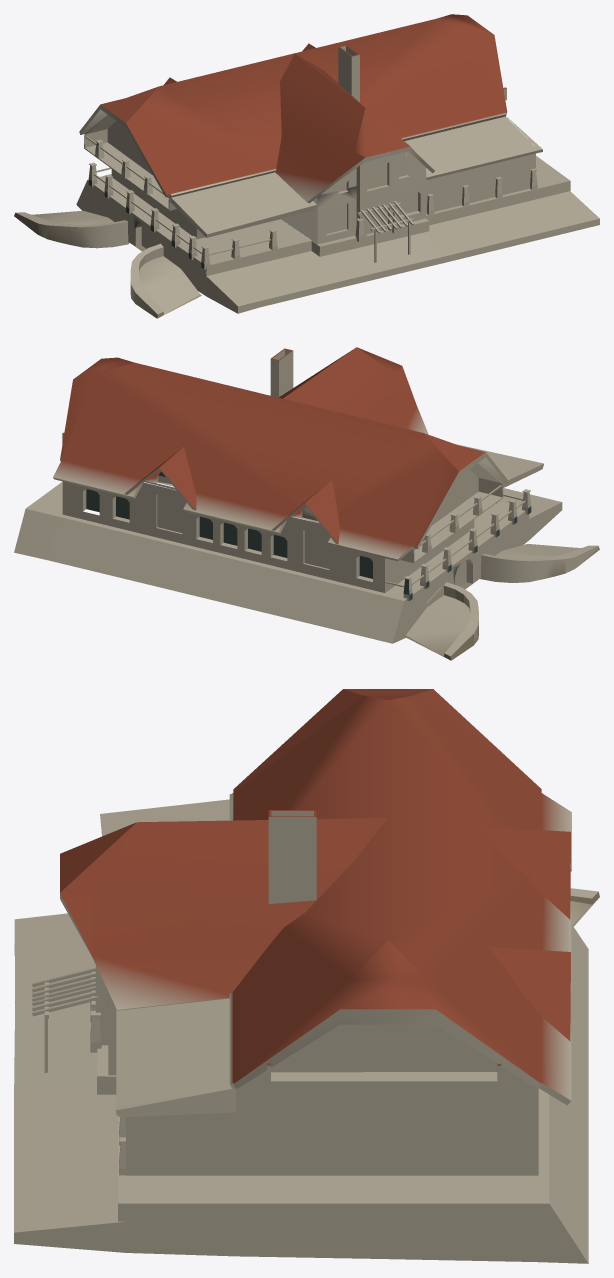
3 renders of one model, top to bottom at view 1: azimuth 30°, elevation 25°; view 2: azimuth 150°, elevation 25°; view 3: azimuth 270°, elevation 25°, orthographic. The views are drawn at different scales.
Visible parts, largest first — view 1: pCube17:PIV; view 2: pCube17:PIV; view 3: pCube17:PIV.
Part boxes in pixels (left/top/right/bottom): pCube17:PIV: left=14, top=14, right=599, bottom=318; pCube17:PIV: left=14, top=347, right=599, bottom=660; pCube17:PIV: left=14, top=689, right=599, bottom=1263.
Size of the model in its own units: 51.63 by 20.27 by 35.14.
